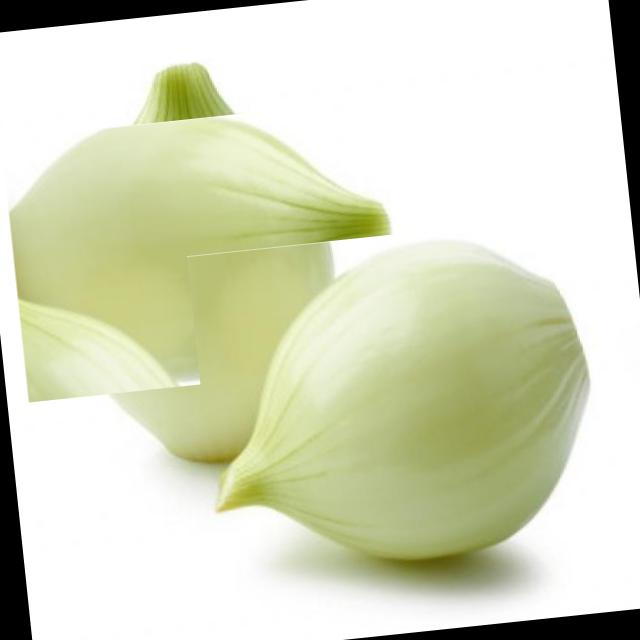Onion: (187, 214, 616, 591), (26, 73, 381, 428)
